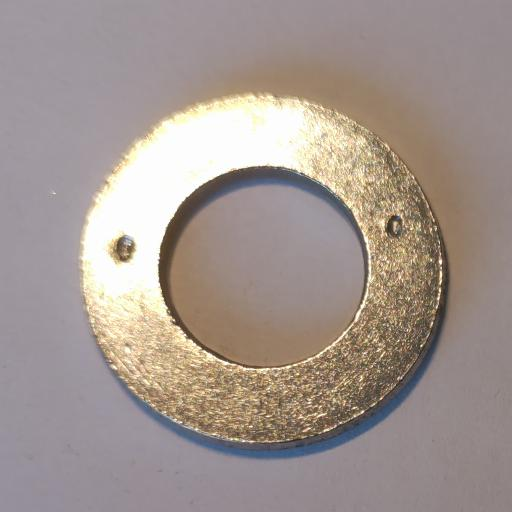circular_cavity: (114, 235, 135, 262), (384, 213, 403, 236)
